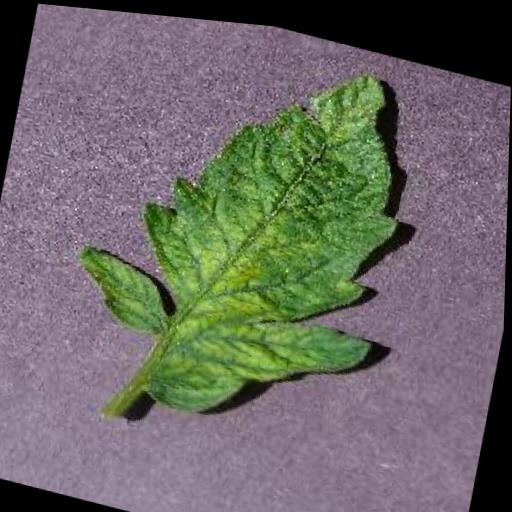Mosaic Virus: (56, 5, 435, 452)
